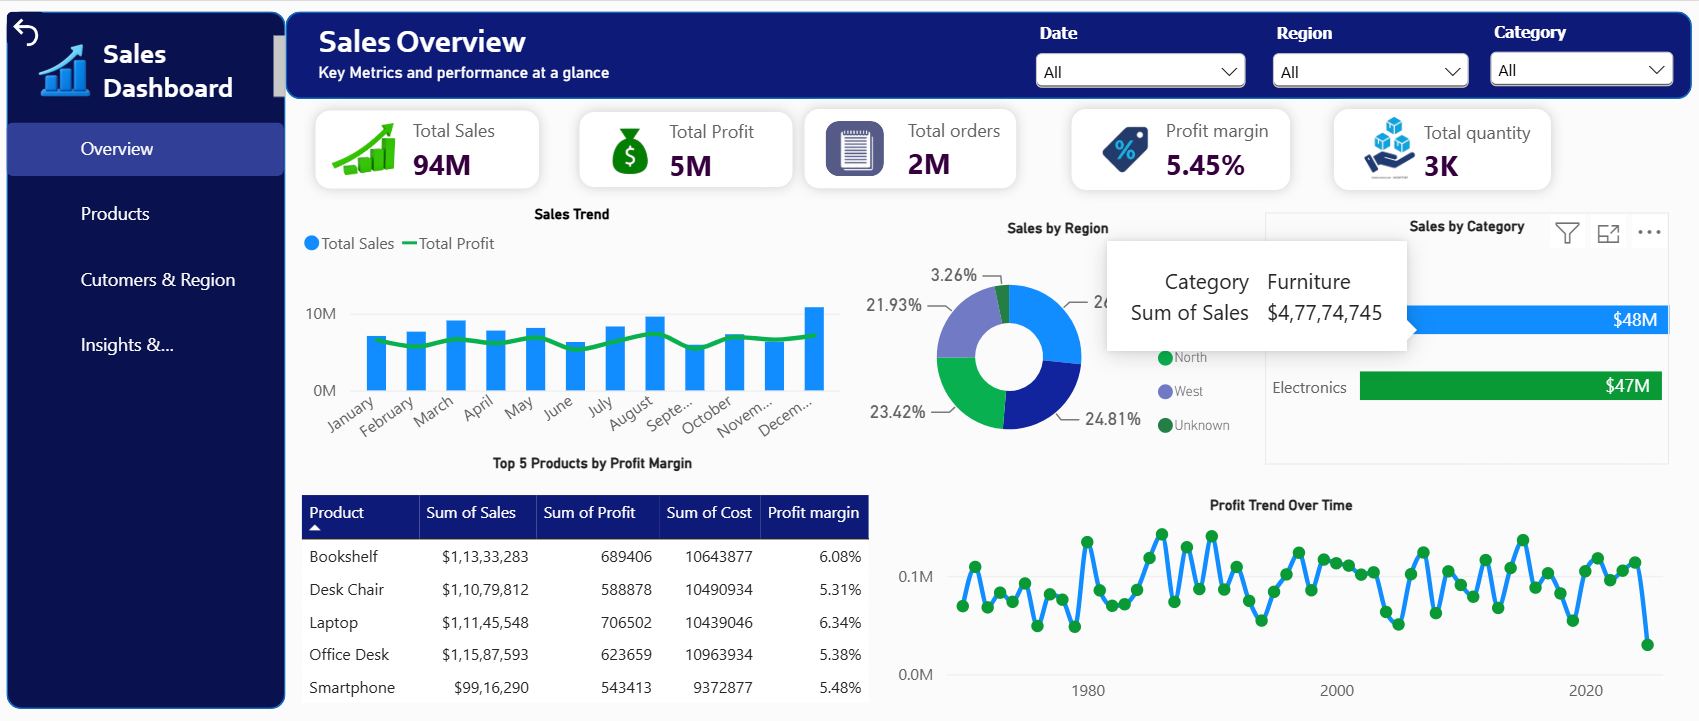

What the dashboard file says about the page in this screenshot:
{"tool":"powerbi","page":{"name":"Overview","canvas":[1150,485],"ordinal":0},"visuals":[{"type":"shape","box":[7.1,7.1,188.1,470.2],"z":0},{"type":"shape","box":[195,7,948,59],"z":1000},{"type":"textbox","box":[195.2,14.2,946.4,35.4],"z":2000},{"type":"textbox","box":[216.9,13.9,531.3,36],"z":3000},{"type":"textbox","box":[216.9,36,924.6,38.3],"z":4000},{"type":"shape","box":[207.1,65.7,166.8,68.8],"z":5000},{"type":"shape","box":[385,66.7,159.8,66.7],"z":6000},{"type":"shape","box":[537.1,65,158.9,69.6],"z":7000},{"type":"shape","box":[717.2,64.9,163.6,70.8],"z":8000},{"type":"slicer","fields":{"Values":["SalesData.OrderDate"]},"box":[695.7,15.2,151.7,59.7],"z":9000},{"type":"slicer","fields":{"Values":["SalesData.Region"]},"box":[855.4,15.2,142.6,59.7],"z":10000},{"type":"slicer","fields":{"Values":["SalesData.Category"]},"box":[1002,14.2,133.5,59.7],"z":11000},{"type":"cardVisual","fields":{"Data":["measure.Total Sales"]},"box":[264.8,69.6,108.2,63.7],"z":12000},{"type":"shape","box":[893.6,64.9,162.4,70.8],"z":13000},{"type":"cardVisual","fields":{"Data":["measure.Total Profit"]},"box":[437.7,71.9,107.9,60.3],"z":14000},{"type":"lineClusteredColumnComboChart","fields":{"Category":["SalesData.OrderDate.Variation.Date Hierarchy.Month"],"Y":["measure.Total Sales"],"Y2":["measure.Total Profit"]},"box":[207.1,134.3,378,167],"z":15000},{"type":"cardVisual","fields":{"Data":["measure.total orders"]},"box":[598.9,70.7,99.8,61.5],"z":16000},{"type":"tableEx","title":"Top 5 Products by Profit Margin","fields":{"Values":["SalesData.Product","Sum(SalesData.Sales.1)","Sum(SalesData.Profit.1)","Sum(SalesData.Cost)","measure.Profit margin"]},"box":[200,306,399,171],"z":17000},{"type":"cardVisual","fields":{"Data":["measure.Profit margin"]},"box":[772.9,69.6,138.8,63.9],"z":18000},{"type":"donutChart","title":"Sales by Region","fields":{"Category":["SalesData.Region"],"Y":["Sum(SalesData.Sales)"]},"box":[583,148,265,158],"z":19000},{"type":"cardVisual","fields":{"Data":["measure.Total quantity"]},"box":[946.9,70.7,125.4,63.7],"z":20000},{"type":"lineChart","title":"Profit Trend Over Time","fields":{"Category":["SalesData_1000Rows_WithIssues_copy.OrderDate.Variation.Date Hierarchy.Year"],"Y":["Sum(SalesData_1000Rows_WithIssues_copy.Profit.1)"]},"box":[607.9,330.6,533.6,146.2],"z":21000},{"type":"clusteredBarChart","title":"Sales by Category","fields":{"Category":["SalesData.Category"],"Y":["Sum(SalesData.Sales)"]},"box":[855,142.7,272.6,169.4],"z":22000},{"type":"shape","box":[559.1,81.2,39.4,37.1],"z":23000},{"type":"image","box":[217.3,77.7,60.3,44.1],"z":24000},{"type":"image","box":[545.5,65.7,70.8,69.6],"z":25000},{"type":"image","box":[742.8,81.2,36,38.3],"z":26000},{"type":"image","box":[405.2,62.6,44.1,81.2],"z":27000},{"type":"image","box":[919.1,63.8,40.6,69.6],"z":28000},{"type":"pageNavigator","box":[7,82.4,187.9,169.4],"z":29000},{"type":"textbox","box":[67.3,23.2,127.6,44.1],"z":30000},{"type":"image","box":[15.1,13.9,60.3,65],"z":31000},{"type":"actionButton","box":[7.1,7.1,26.3,23.2],"z":32000},{"type":"image","box":[24,218,26,33],"z":32001},{"type":"image","box":[22,164,29.2,51.1],"z":32002},{"type":"image","box":[22.1,119.3,28.9,48.1],"z":32003},{"type":"image","box":[22,76.6,29,48.7],"z":32004}]}

Visuals, with their boxes on the page's 1150x485 design canvas (x1, y1, x2, y2). These are canvas units, not pixel positions in the 1699x721 screenshot, which may show the page scaled, cropped or inside an application window:
shape: locate(7, 7, 195, 477)
shape: locate(195, 7, 1143, 66)
textbox: locate(195, 14, 1142, 50)
textbox: locate(217, 14, 748, 50)
textbox: locate(217, 36, 1142, 74)
shape: locate(207, 66, 374, 134)
shape: locate(385, 67, 545, 133)
shape: locate(537, 65, 696, 135)
shape: locate(717, 65, 881, 136)
slicer - SalesData.OrderDate: locate(696, 15, 847, 75)
slicer - SalesData.Region: locate(855, 15, 998, 75)
slicer - SalesData.Category: locate(1002, 14, 1136, 74)
cardVisual - measure.Total Sales: locate(265, 70, 373, 133)
shape: locate(894, 65, 1056, 136)
cardVisual - measure.Total Profit: locate(438, 72, 546, 132)
lineClusteredColumnComboChart - SalesData.OrderDate.Variation.Date Hierarchy.Month x measure.Total Sales: locate(207, 134, 585, 301)
cardVisual - measure.total orders: locate(599, 71, 699, 132)
"Top 5 Products by Profit Margin" tableEx: locate(200, 306, 599, 477)
cardVisual - measure.Profit margin: locate(773, 70, 912, 134)
"Sales by Region" donutChart: locate(583, 148, 848, 306)
cardVisual - measure.Total quantity: locate(947, 71, 1072, 134)
"Profit Trend Over Time" lineChart: locate(608, 331, 1142, 477)
"Sales by Category" clusteredBarChart: locate(855, 143, 1128, 312)
shape: locate(559, 81, 598, 118)
image: locate(217, 78, 278, 122)
image: locate(546, 66, 616, 135)
image: locate(743, 81, 779, 120)
image: locate(405, 63, 449, 144)
image: locate(919, 64, 960, 133)
pageNavigator: locate(7, 82, 195, 252)
textbox: locate(67, 23, 195, 67)
image: locate(15, 14, 75, 79)
actionButton: locate(7, 7, 33, 30)
image: locate(24, 218, 50, 251)
image: locate(22, 164, 51, 215)
image: locate(22, 119, 51, 167)
image: locate(22, 77, 51, 125)
